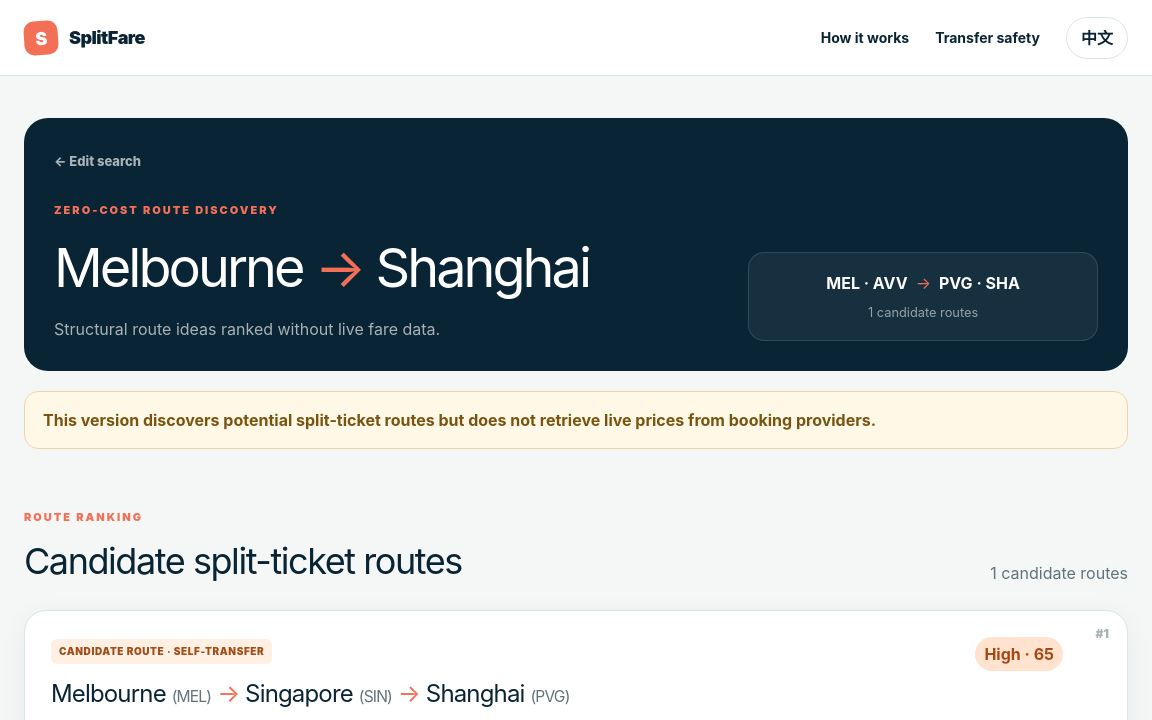
Test case: route discovery results › keeps route results when switching language without rediscovery
Click the button with aria-label "Switch language" at x=1097, y=38, box [1066,16,1128,58]
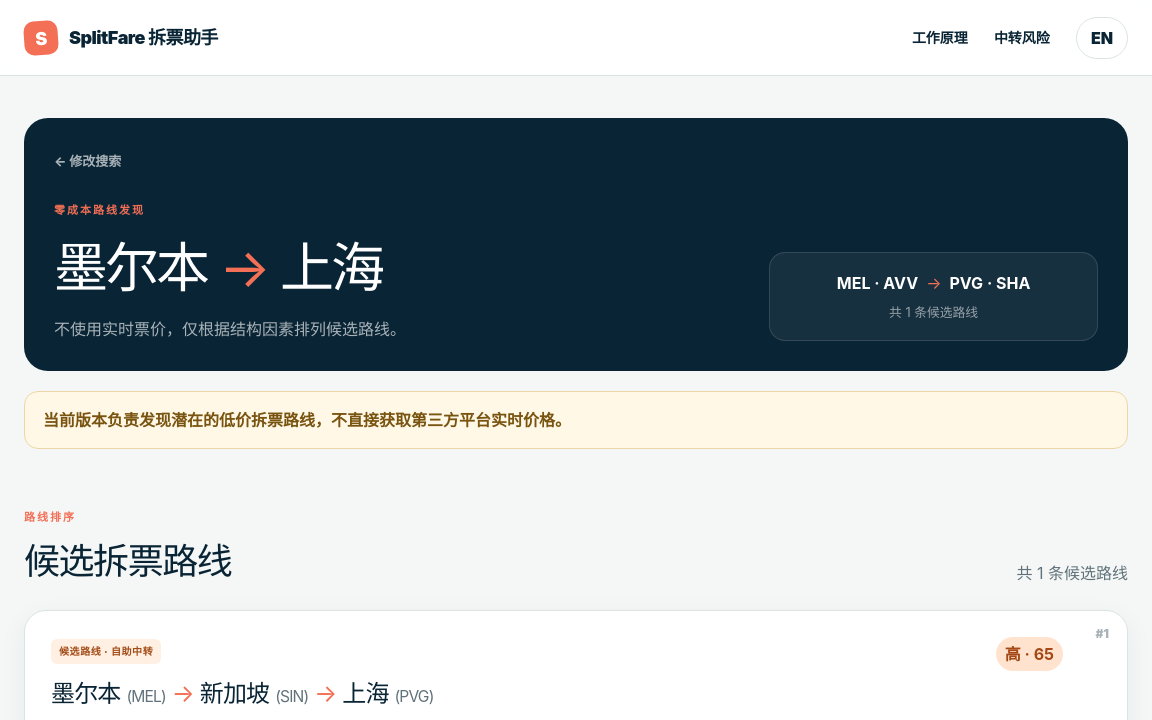
Expected: the heading "墨尔本 → 上海" is shown, [54,227,406,308]
